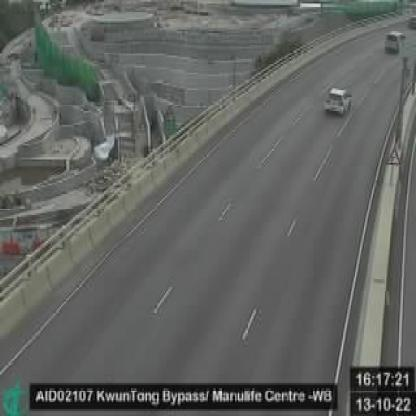Car: (325, 86, 352, 118), (384, 29, 404, 54)
